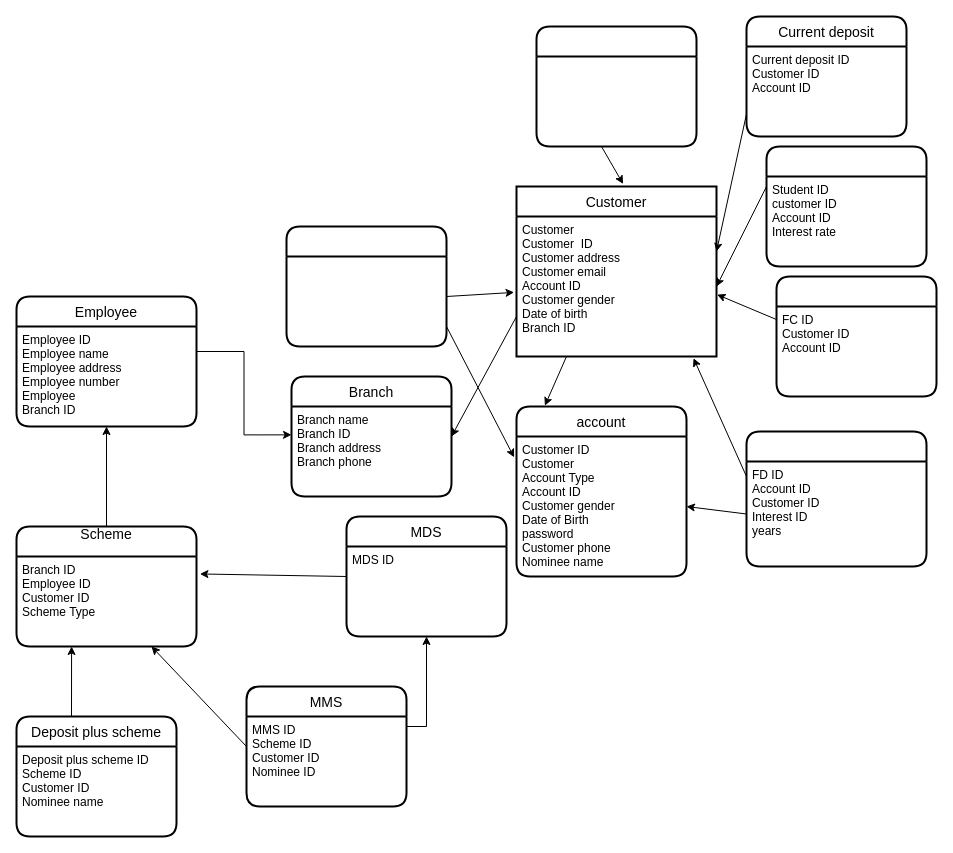
The diagram is 953 pixels wide and 853 high, and some of its shapes have lost their labels. Here are the shapes that lost their labels. From the top down, the box of each, then its label:
(535, 25, 697, 147): Saving Account
(765, 145, 927, 267): Student account
(285, 225, 447, 347): Short notice deposit
(775, 275, 937, 397): Foreign Currency
(745, 430, 927, 567): Fixed Depo
